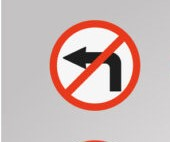No_turn_left: (48, 20, 143, 113)
